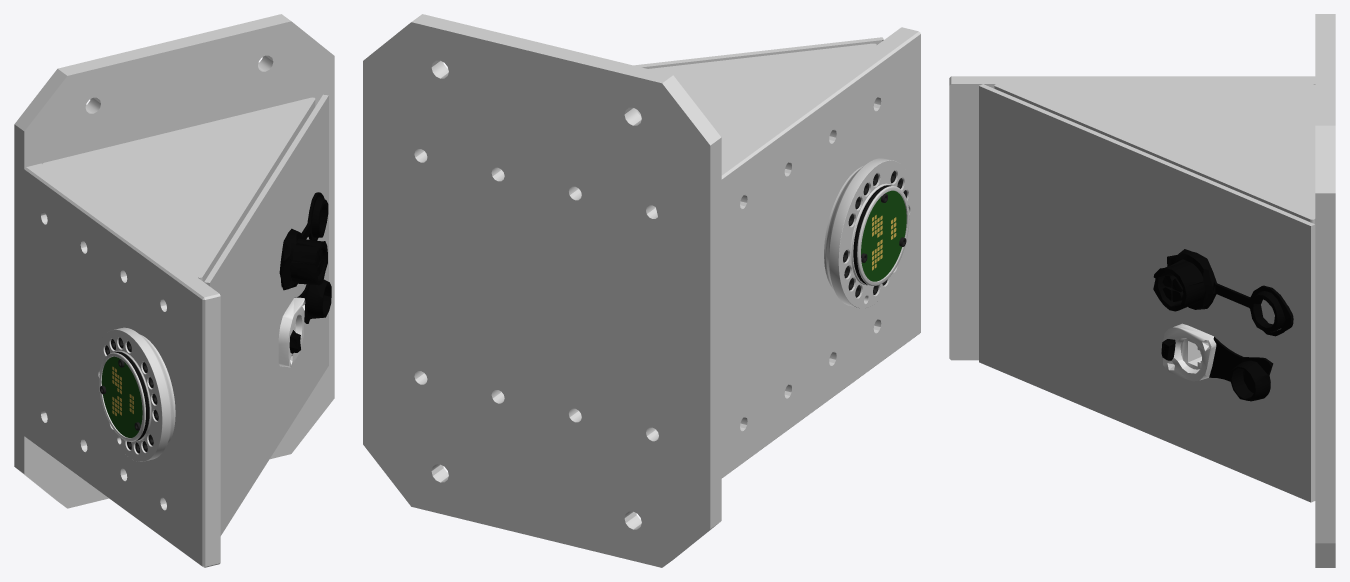
The model's file is B86-90deg.glb.
3 renders of one model, left to right at view 1: azimuth 30°, elevation 25°; view 2: azimuth 150°, elevation 25°; view 3: azimuth 270°, elevation 25°, orthographic. The views are drawn at different scales.
Visible parts, largest first — view 1: B86-90deg; view 2: B86-90deg; view 3: B86-90deg.
Boxes of the visible parts, x1=… form: B86-90deg: x1=14, y1=14, x2=334, y2=567; B86-90deg: x1=363, y1=14, x2=920, y2=567; B86-90deg: x1=949, y1=14, x2=1335, y2=567.
Size of the model in its own units: 0.1948 by 0.24 by 0.19.
